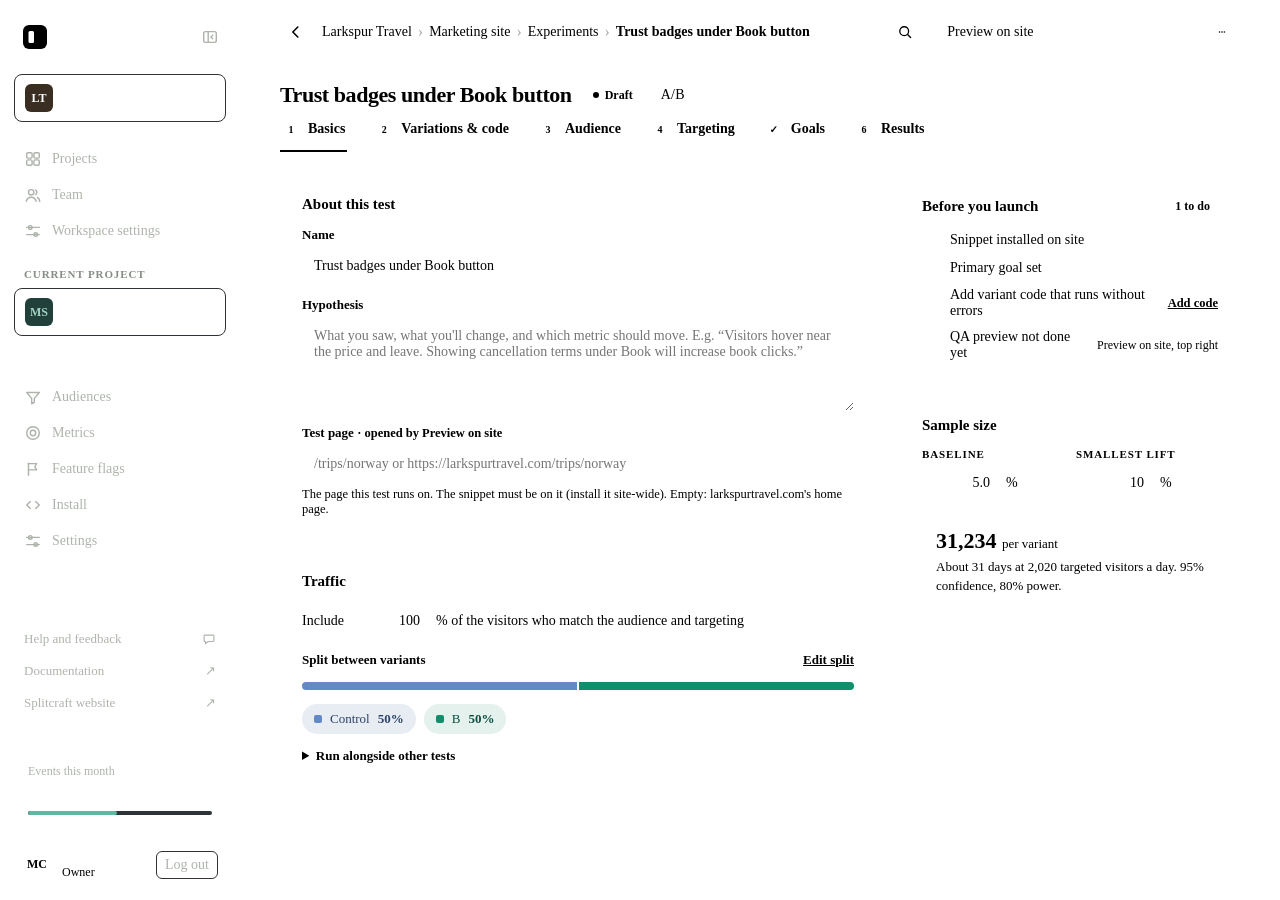
Test: basics › asks for valid planner inputs
Expected: the navigation bar named "Experiment steps" is shown, [280, 108, 925, 152]
Clear the field labelled "Baseline" at (960, 483), box [922, 466, 998, 500]
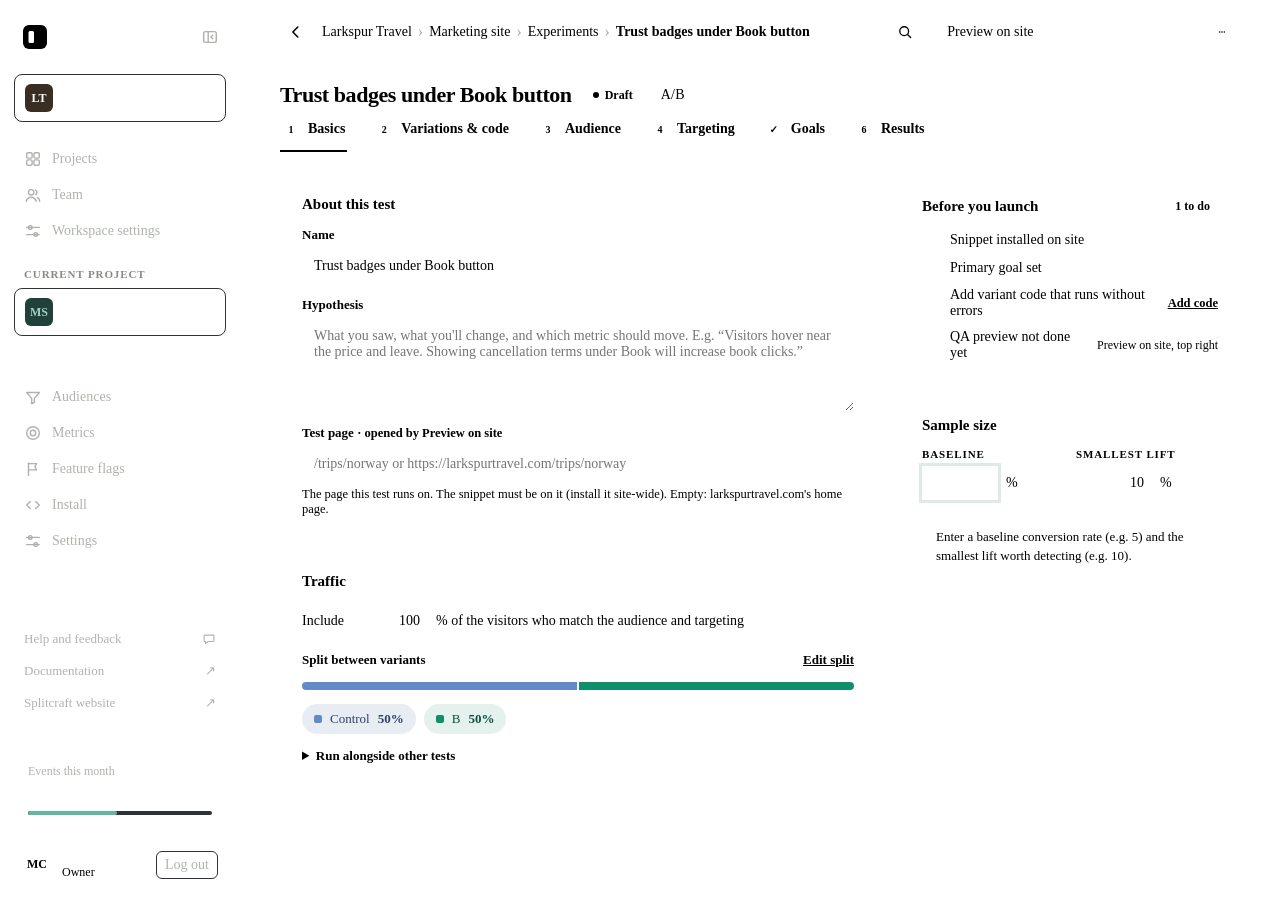
Expected: the text "Enter a baseline conversion rate" is shown, [936, 529, 1184, 563]
